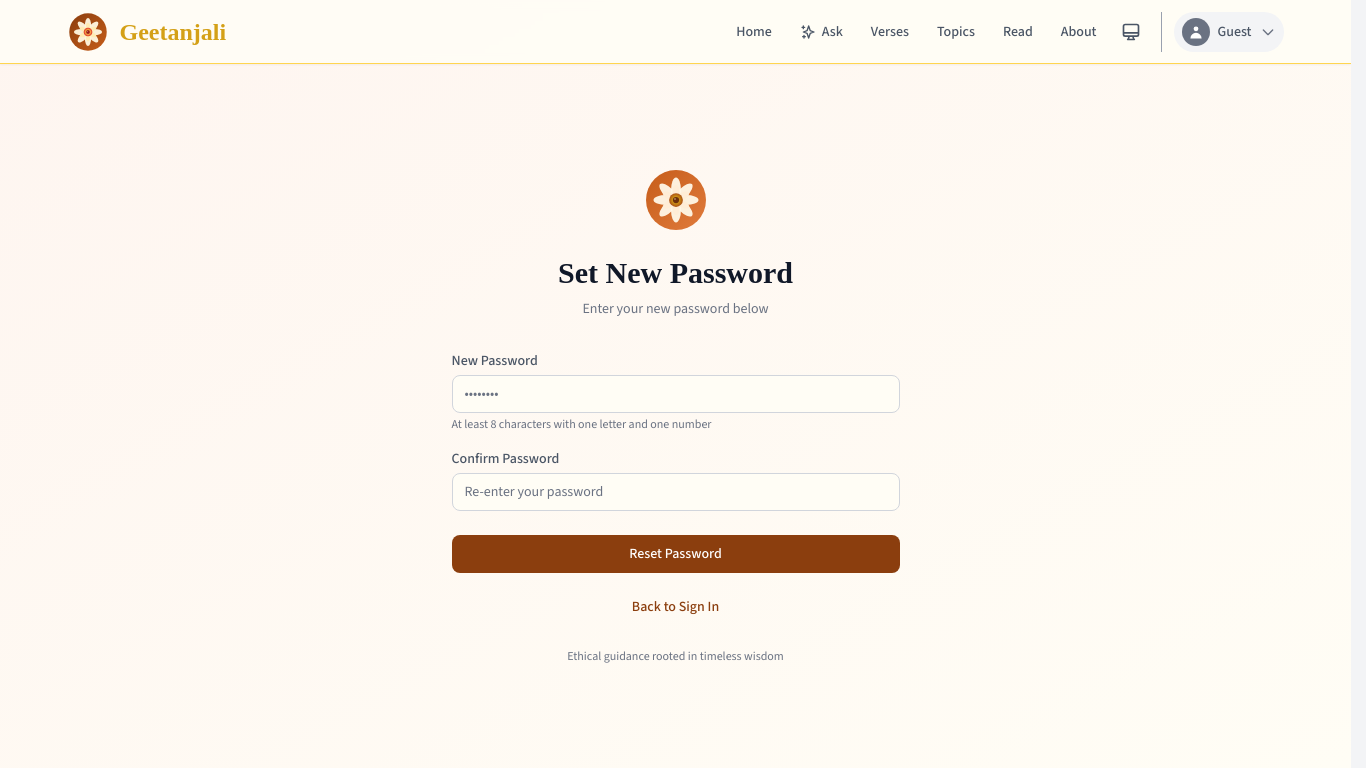
Test: ResetPassword Page › should show error when passwords do not match
In the password field labelled "New Password": (676, 394) [452, 374, 900, 412], type "password123"
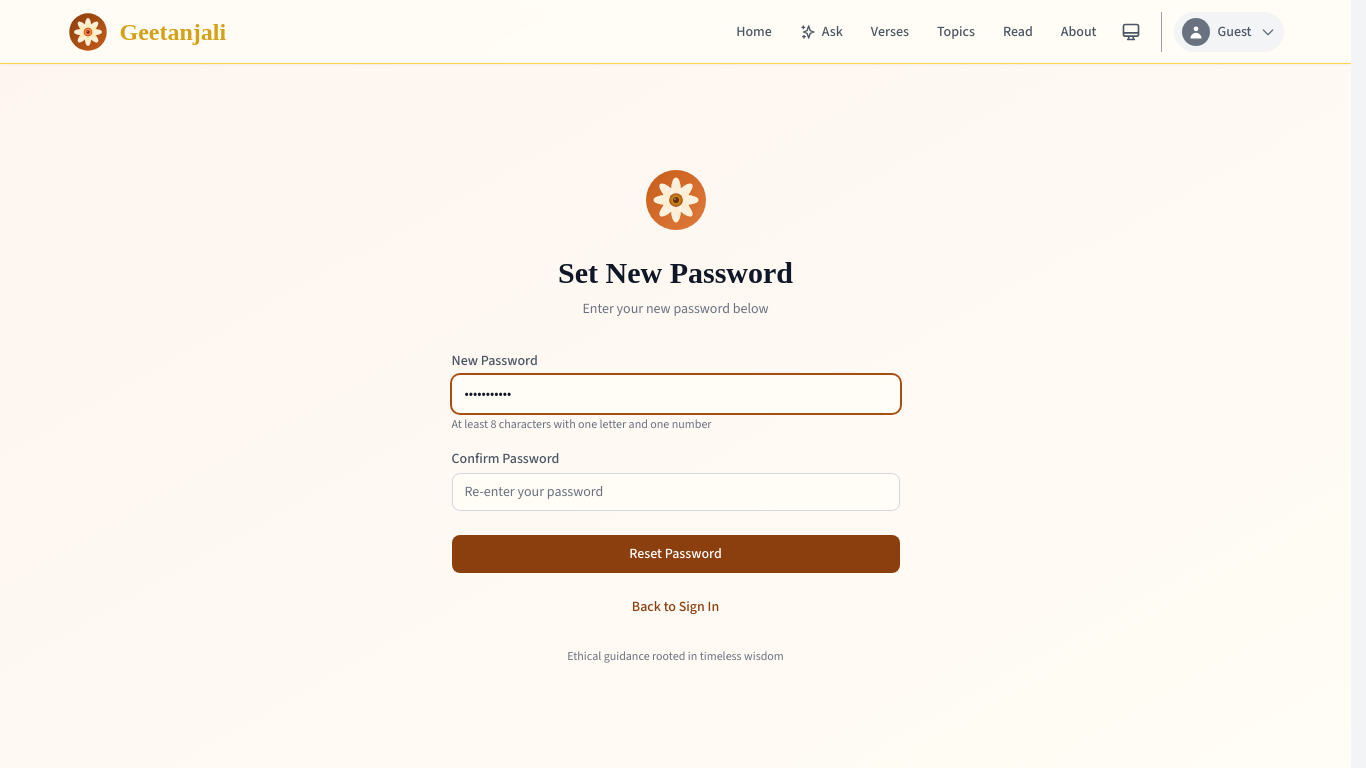
In the password field labelled "Confirm Password": (676, 492) [452, 472, 900, 510], type "different123"
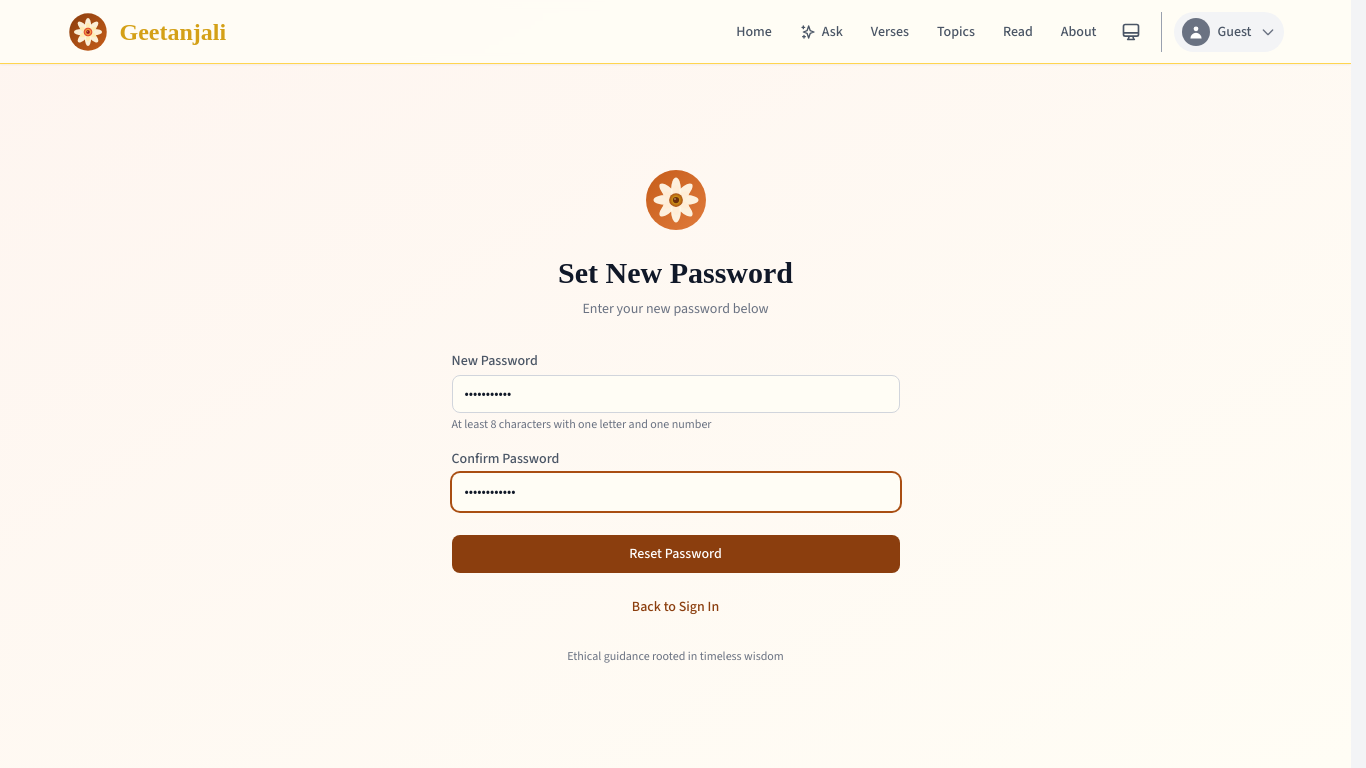
Click the button "Reset Password": (676, 554) [452, 534, 900, 572]
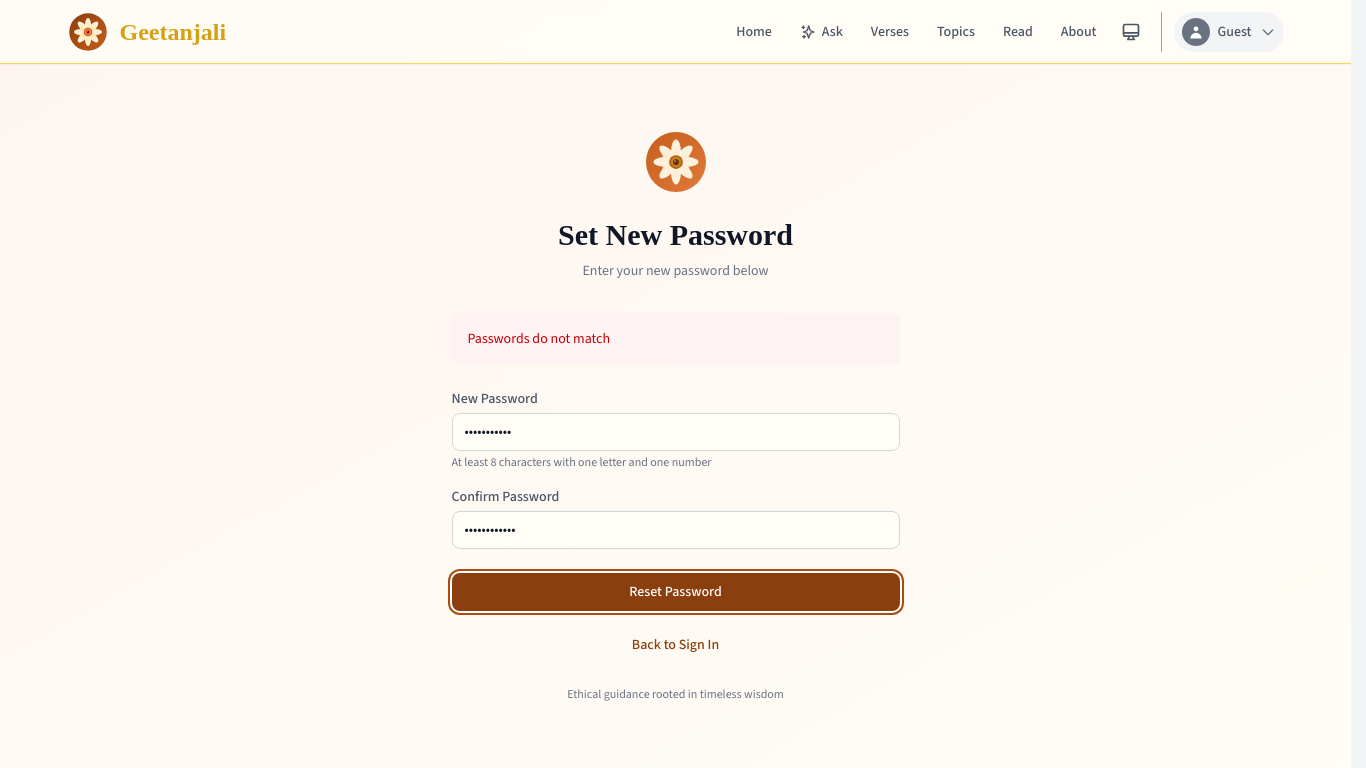
Expected: the text "Passwords do not match" is shown, [468, 328, 610, 348]
